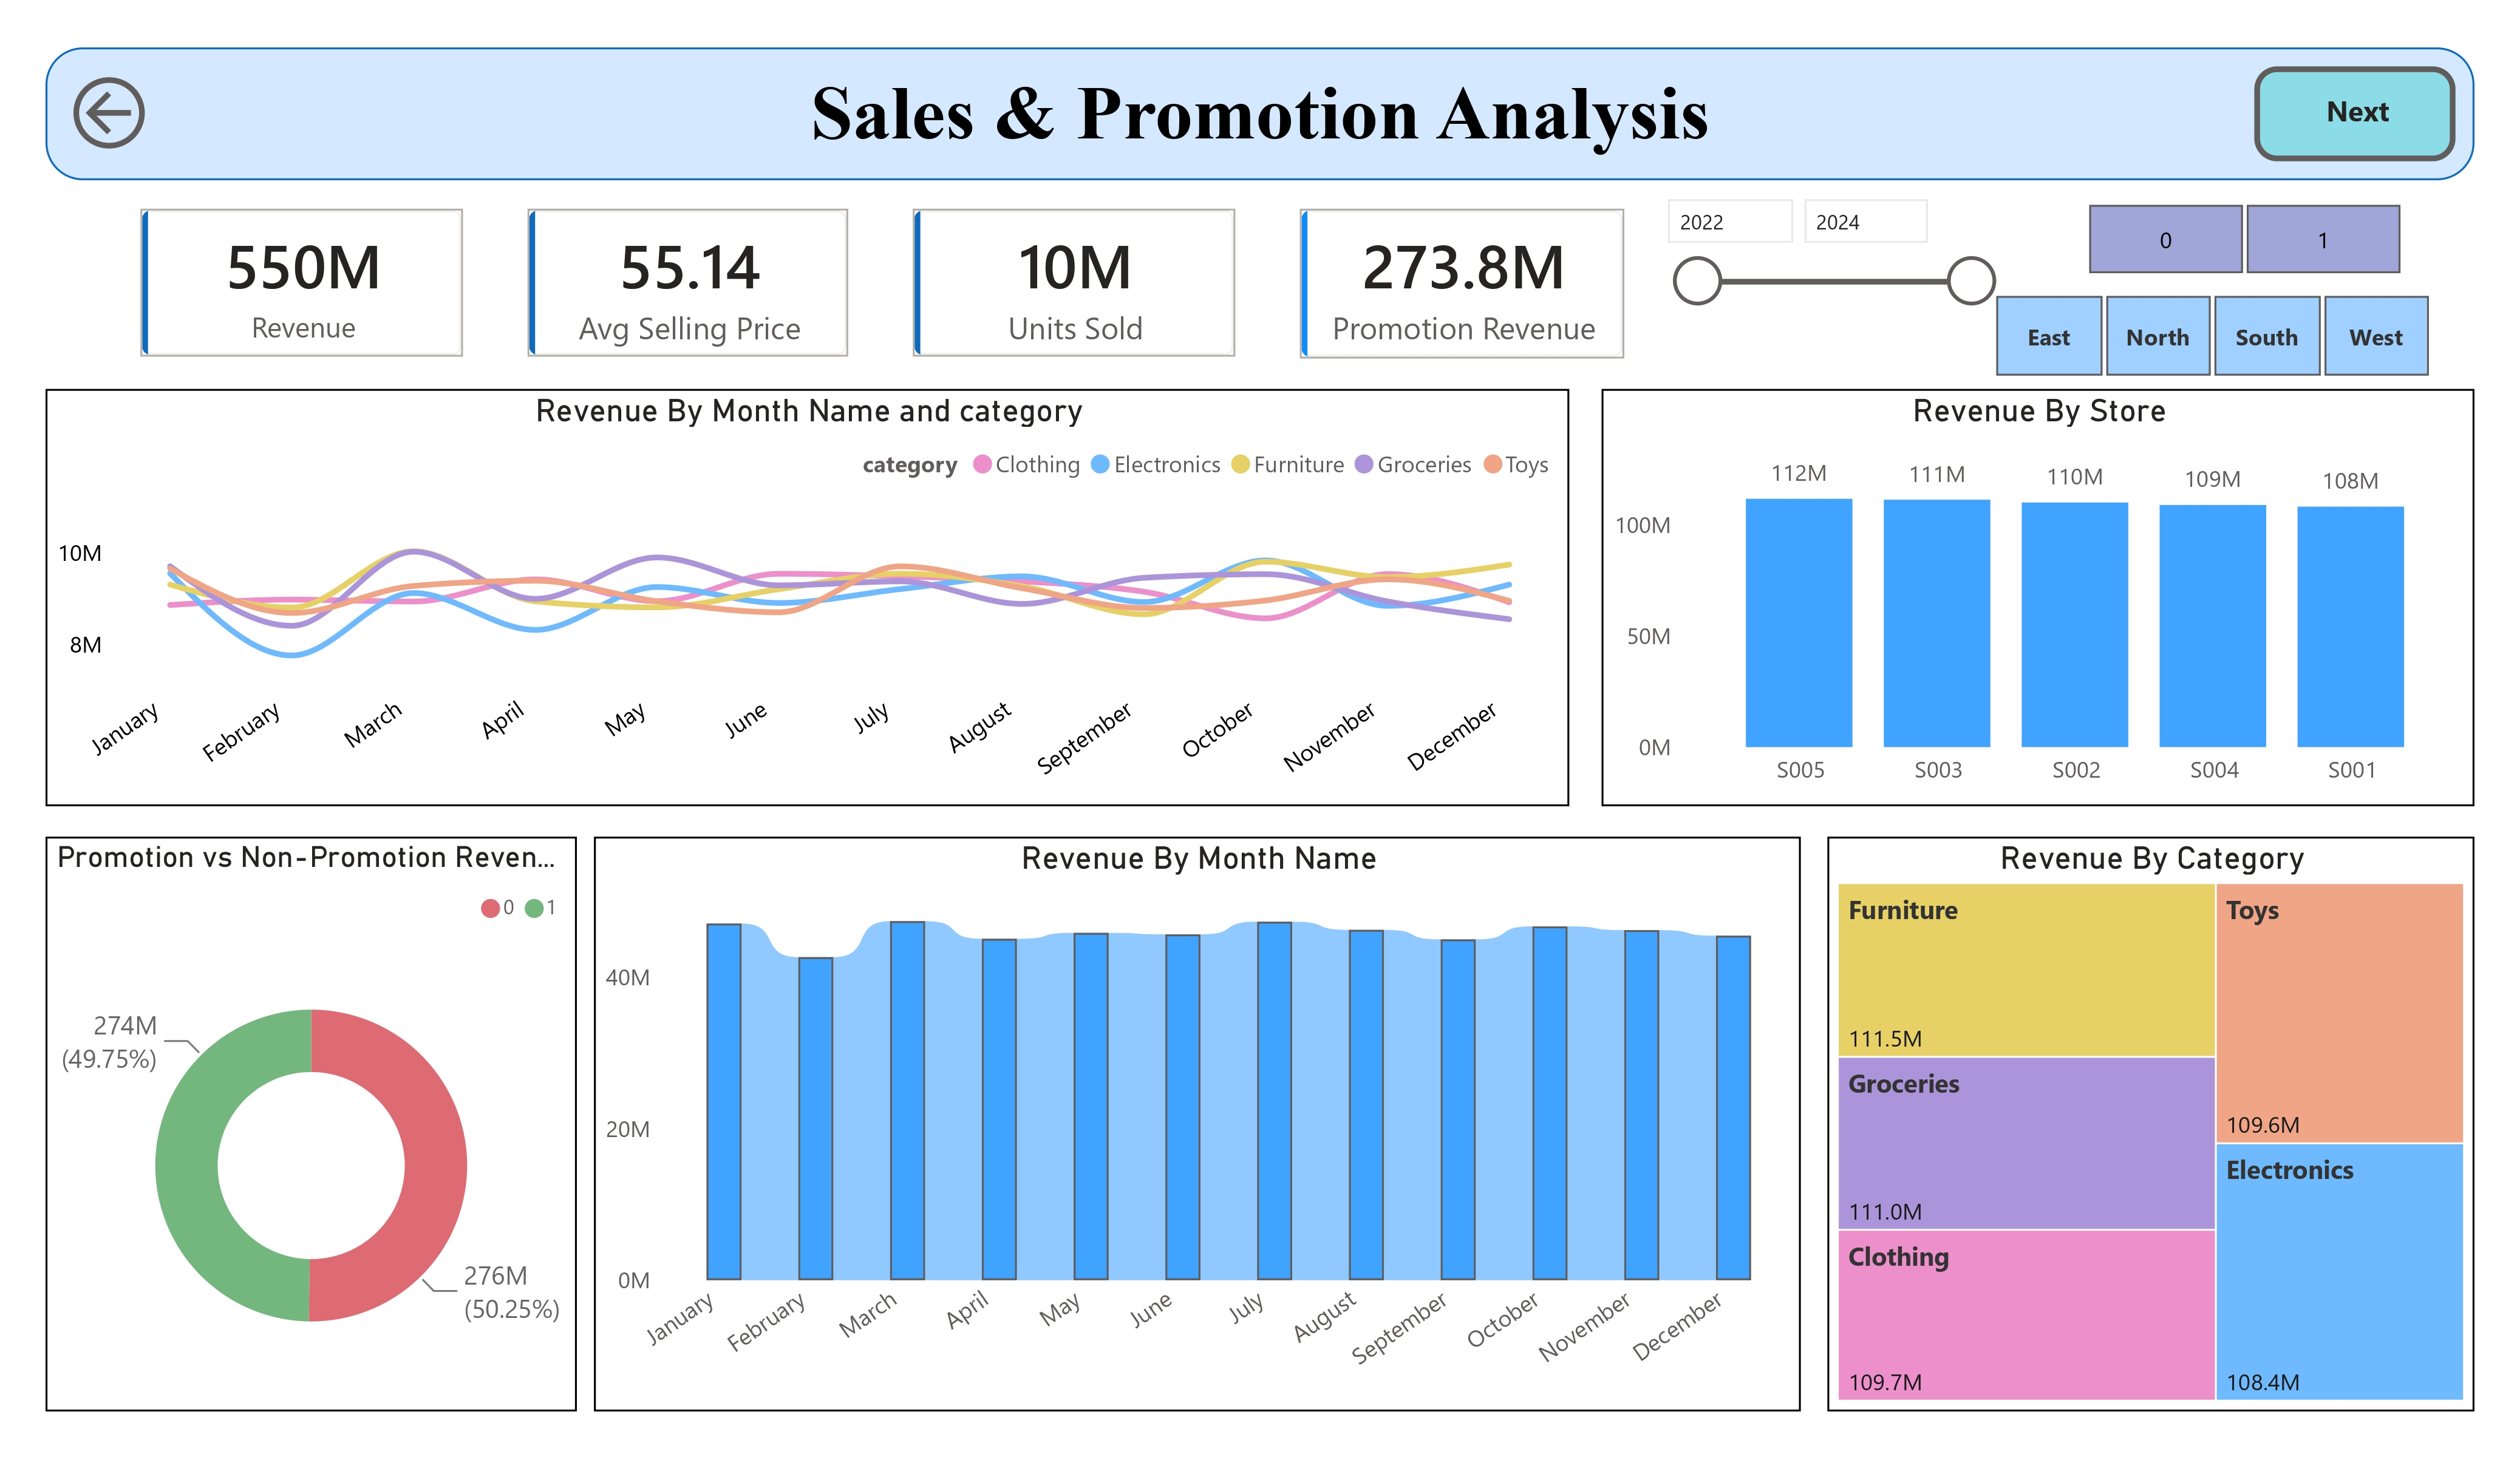

Layout of this report page (visuals, bound fields, positions):
{"tool":"powerbi","page":{"name":"Sales And Promotion Analysis","canvas":[1280,720],"ordinal":2},"visuals":[{"type":"cardVisual","fields":{"Data":["Measures (2).Total_Revenue"]},"box":[33.5,69.5,203.5,111.6],"z":0},{"type":"cardVisual","fields":{"Data":["Measures (2).Total Units Sold"]},"box":[440.4,69.5,203.5,111.6],"z":1000},{"type":"cardVisual","fields":{"Data":["Measures (2).Promotion Revenue"]},"box":[643.8,69.5,204.7,112.9],"z":2000},{"type":"cardVisual","fields":{"Data":["Measures (2).Average Selling Price"]},"box":[236.9,69.5,203.5,111.6],"z":3000},{"type":"clusteredColumnChart","title":"Revenue By Store","fields":{"Category":["public fact_retail_inventory.store_id"],"Y":["Measures (2).Total_Revenue"]},"box":[820,181.1,460.2,219.6],"z":4000},{"type":"treemap","title":" Revenue By Category","fields":{"Values":["Sum(public fact_retail_inventory.revenue)"],"Group":["public fact_retail_inventory.category"]},"box":[939.1,416.8,341.2,302.7],"z":5000},{"type":"donutChart","title":"Promotion vs Non-Promotion Revenue","fields":{"Category":["public fact_retail_inventory.holiday_promotion"],"Y":["Sum(public fact_retail_inventory.revenue)"]},"box":[0,416.8,280.4,302.7],"z":6000},{"type":"ribbonChart","title":" Revenue By Month Name","fields":{"Category":["Date.Month Name"],"Y":["Sum(public fact_retail_inventory.revenue)"]},"box":[289,416.8,636.4,302.7],"z":7000},{"type":"lineChart","title":"Revenue By Month Name and category","fields":{"Category":["Date.Month Name"],"Y":["Sum(public fact_retail_inventory.revenue)"],"Series":["public fact_retail_inventory.category"]},"box":[0,181.1,802.6,219.6],"z":8000},{"type":"shape","box":[0,1.2,1280.3,69.5],"z":9000},{"type":"slicer","fields":{"Values":["public fact_retail_inventory.region"]},"box":[1002.4,125.3,277.9,55.8],"z":10000},{"type":"slicer","fields":{"Values":["public fact_retail_inventory.holiday_promotion"]},"box":[1050.7,76.9,214.6,49.6],"z":11000},{"type":"slicer","fields":{"Values":["Date.Year"]},"box":[842.3,70.7,193.5,74.4],"z":12000},{"type":"actionButton","box":[8.7,11.2,72,48.4],"z":12001},{"type":"actionButton","box":[1163.6,11.2,106.7,49.6],"z":12002},{"type":"textbox","box":[1172.3,18.6,93,34.7],"z":12003}]}

Visuals, with their boxes in screenshot pixels (x1, y1, x2, y2):
cardVisual - Measures (2).Total_Revenue: 128 176 509 385
cardVisual - Measures (2).Total Units Sold: 890 176 1272 385
cardVisual - Measures (2).Promotion Revenue: 1272 176 1655 387
cardVisual - Measures (2).Average Selling Price: 509 176 890 385
"Revenue By Store" clusteredColumnChart: 1601 385 2463 796
" Revenue By Category" treemap: 1824 826 2464 1393
"Promotion vs Non-Promotion Revenue" donutChart: 66 826 591 1393
" Revenue By Month Name" ribbonChart: 607 826 1799 1393
"Revenue By Month Name and category" lineChart: 66 385 1568 796
shape: 66 48 2464 178
slicer - public fact_retail_inventory.region: 1943 280 2464 385
slicer - public fact_retail_inventory.holiday_promotion: 2033 190 2435 283
slicer - Date.Year: 1643 178 2005 318
actionButton: 82 67 217 157
actionButton: 2245 67 2445 160
textbox: 2261 81 2435 146
